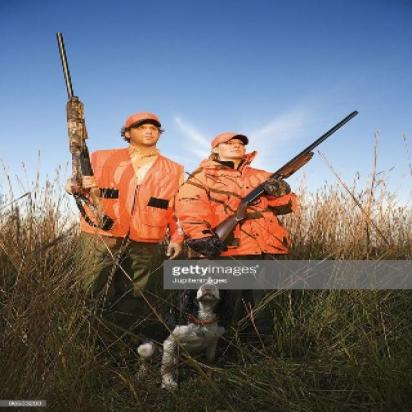Gun: (183, 104, 359, 258), (47, 28, 119, 236)
